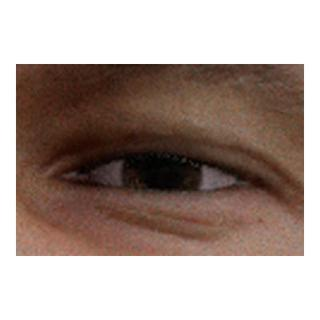pupil: (145, 157, 178, 190)
